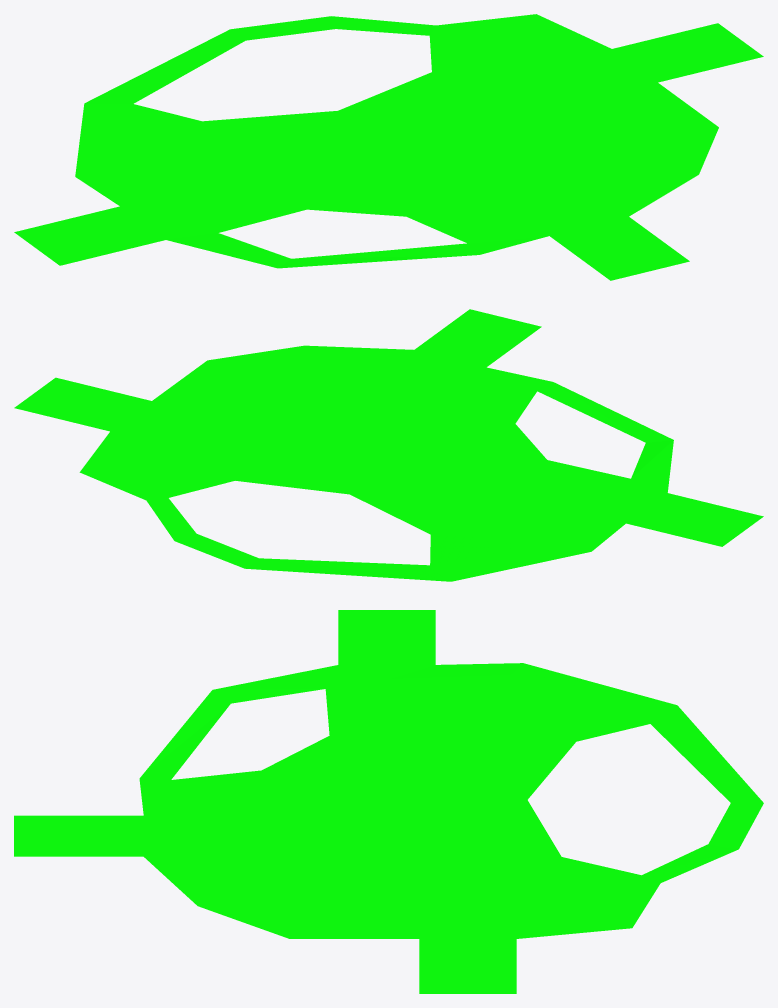
File: s04a_tb3-floor.glb
3 renders of one model, top to bottom at view 1: azimuth 30°, elevation 25°; view 2: azimuth 150°, elevation 25°; view 3: azimuth 270°, elevation 25°, orthographic. The views are drawn at different scales.
Parts seen in each view (by area): view 1: collision_floor-colonly; view 2: collision_floor-colonly; view 3: collision_floor-colonly.
Boxes of the visible parts, left/top/right/bottom form: collision_floor-colonly: left=14, top=14, right=763, bottom=280; collision_floor-colonly: left=14, top=309, right=763, bottom=581; collision_floor-colonly: left=14, top=610, right=763, bottom=993.
Bounding box in the file's own units: 56 × 0.2344 × 46.25.
